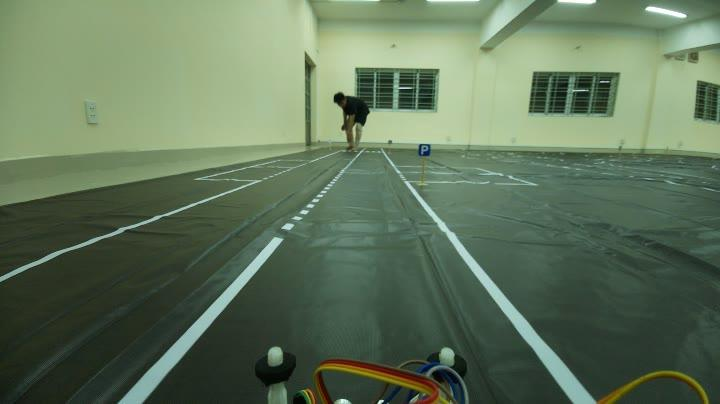parking: (417, 137, 433, 162)
